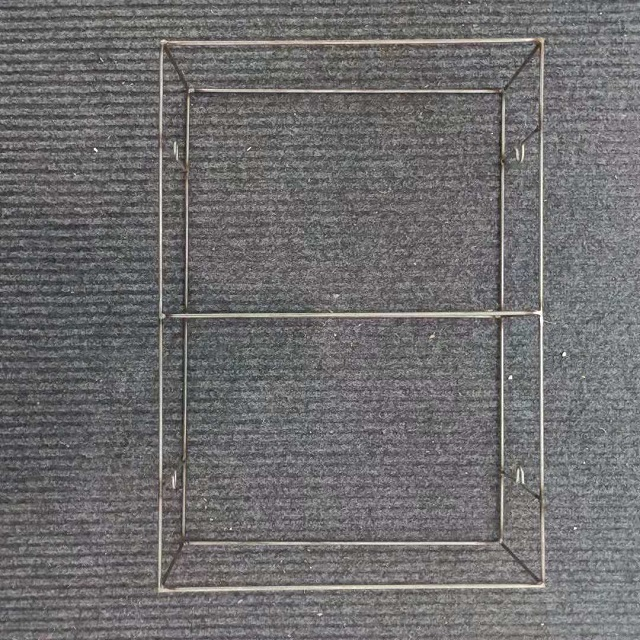curvedhole: (508, 462, 533, 499), (509, 136, 527, 169)
